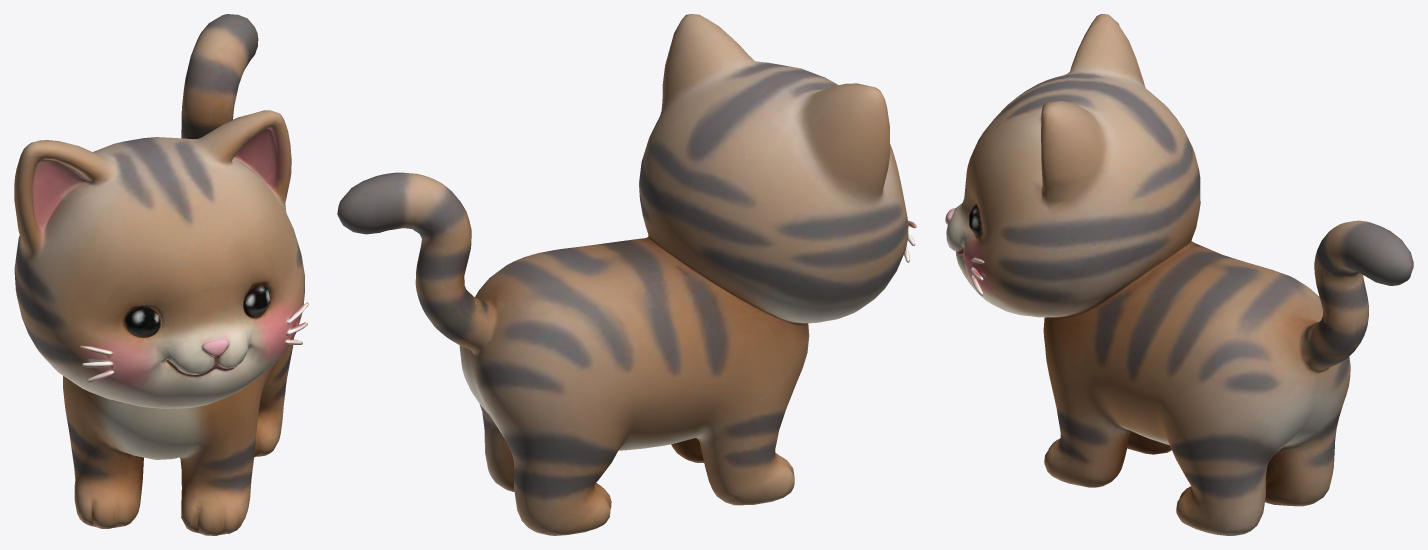
Rendered from pet_cat.glb.
The picture shows the model from 3 angles, left to right: view 1: azimuth 30°, elevation 25°; view 2: azimuth 150°, elevation 25°; view 3: azimuth 270°, elevation 25°; orthographic projection. The views are drawn at different scales.
Parts seen in each view (by area): view 1: node_0; view 2: node_0; view 3: node_0.
Boxes of the visible parts, x1,y1,x2,y2 form: node_0: (14, 14, 308, 535); node_0: (337, 14, 916, 535); node_0: (945, 14, 1413, 535).
Bounding box in the file's own units: 0.7631 × 0.78 × 0.85.
1 material, 1 textured.
